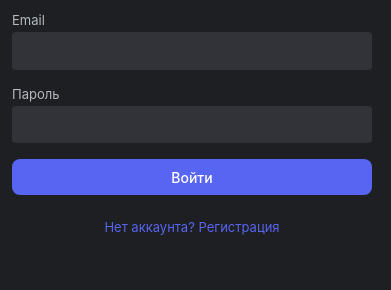
Test case: <LoginForm /> › zod-валидация показывает inline-ошибки при пустых полях
Click the button "Войти" at (192, 177), box [12,159,372,195]
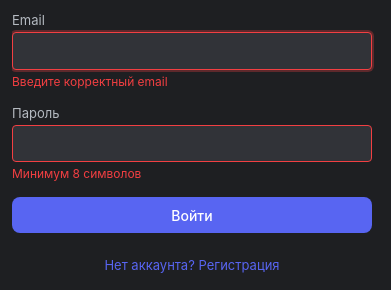
Expected: the text "Введите корректный email" is shown, [12,74,168,89]
Expected: the text "Минимум 8 символов" is shown, [12,166,141,181]
